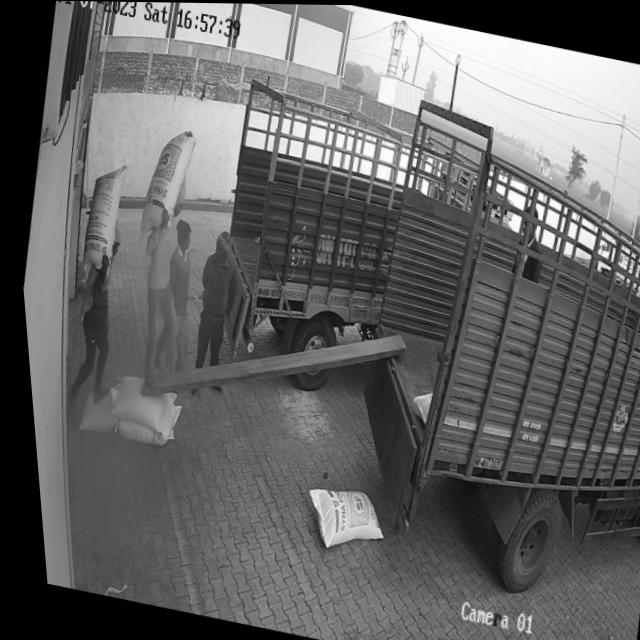sack: (128, 122, 201, 239), (68, 158, 132, 284), (289, 480, 383, 558), (99, 371, 174, 435), (103, 391, 177, 450), (68, 382, 117, 437)
